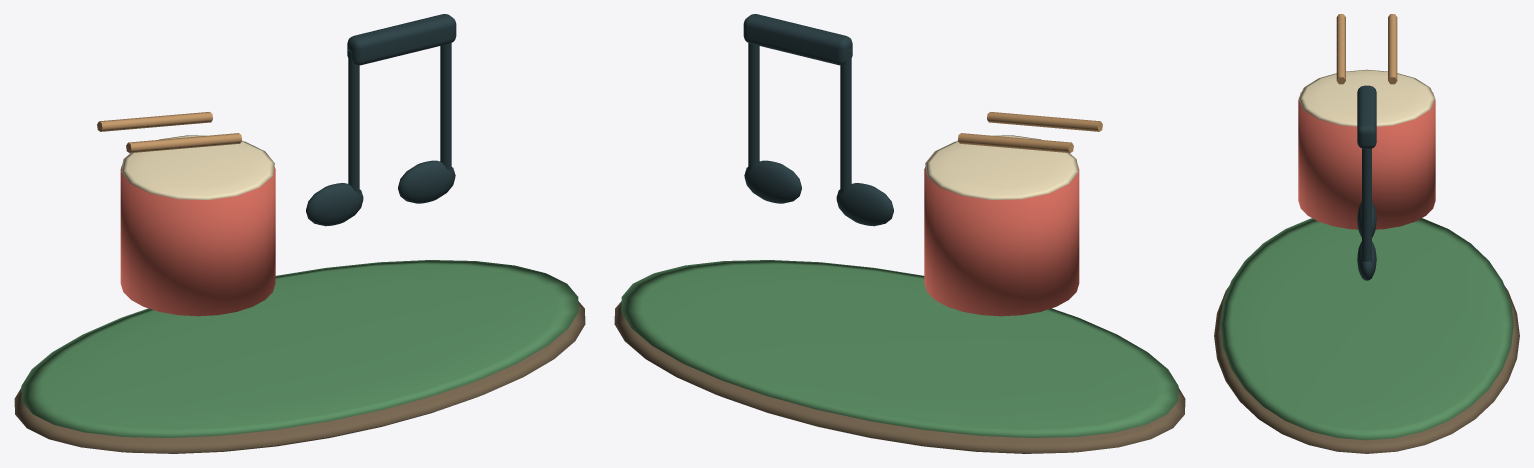
Rendered from musical-sound.glb.
The picture shows the model from 3 angles, left to right: view 1: azimuth 30°, elevation 25°; view 2: azimuth 150°, elevation 25°; view 3: azimuth 270°, elevation 25°; orthographic projection. The views are drawn at different scales.
Visible parts, largest first — view 1: musical-sound_surface_01, musical-sound_surface_02, musical-sound_surface_05, musical-sound_surface_00, musical-sound_surface_03, musical-sound_surface_04; view 2: musical-sound_surface_01, musical-sound_surface_02, musical-sound_surface_05, musical-sound_surface_00, musical-sound_surface_03, musical-sound_surface_04; view 3: musical-sound_surface_01, musical-sound_surface_02, musical-sound_surface_00, musical-sound_surface_03, musical-sound_surface_05, musical-sound_surface_04.
Part boxes in pixels (x1,y1,x2,y2): musical-sound_surface_01: [21, 260, 578, 437]; musical-sound_surface_02: [120, 164, 275, 316]; musical-sound_surface_05: [306, 14, 456, 226]; musical-sound_surface_00: [14, 301, 585, 453]; musical-sound_surface_03: [121, 135, 274, 199]; musical-sound_surface_04: [97, 112, 242, 153]; musical-sound_surface_01: [621, 260, 1178, 437]; musical-sound_surface_02: [924, 164, 1079, 316]; musical-sound_surface_05: [743, 14, 893, 226]; musical-sound_surface_00: [614, 301, 1185, 453]; musical-sound_surface_03: [925, 135, 1078, 199]; musical-sound_surface_04: [957, 112, 1102, 153]; musical-sound_surface_01: [1220, 218, 1513, 440]; musical-sound_surface_02: [1298, 92, 1435, 229]; musical-sound_surface_00: [1214, 286, 1519, 453]; musical-sound_surface_03: [1298, 69, 1435, 126]; musical-sound_surface_05: [1357, 85, 1376, 280]; musical-sound_surface_04: [1336, 14, 1397, 84].
Size of the model in its own units: 4.56 by 2.6 by 2.5.
